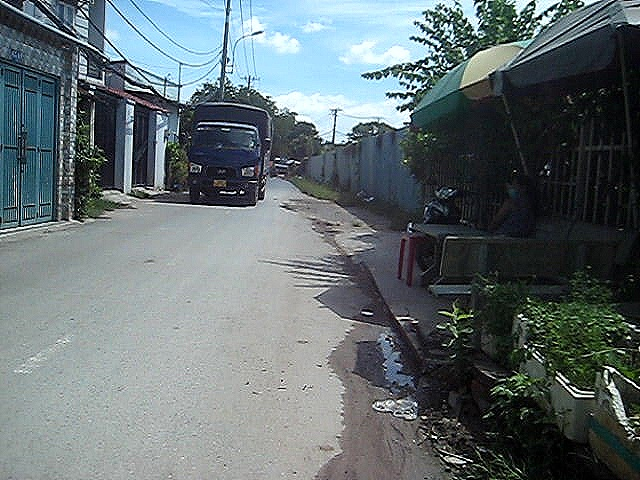hole: (282, 203, 310, 212)
